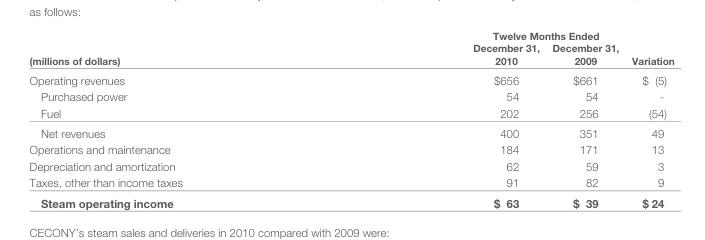table: (28, 28, 673, 208)
table column: (28, 28, 327, 208), (327, 28, 545, 208), (545, 28, 624, 208), (624, 28, 673, 208)
table column header: (28, 28, 673, 69)
table row: (28, 41, 673, 69), (28, 122, 673, 141), (28, 173, 673, 192), (28, 69, 673, 87), (28, 104, 673, 122), (28, 87, 673, 104), (28, 141, 673, 157), (28, 157, 673, 173), (28, 192, 673, 208), (28, 28, 673, 41)
table spanning cell: (28, 28, 327, 69), (327, 28, 624, 41), (624, 28, 673, 69)
